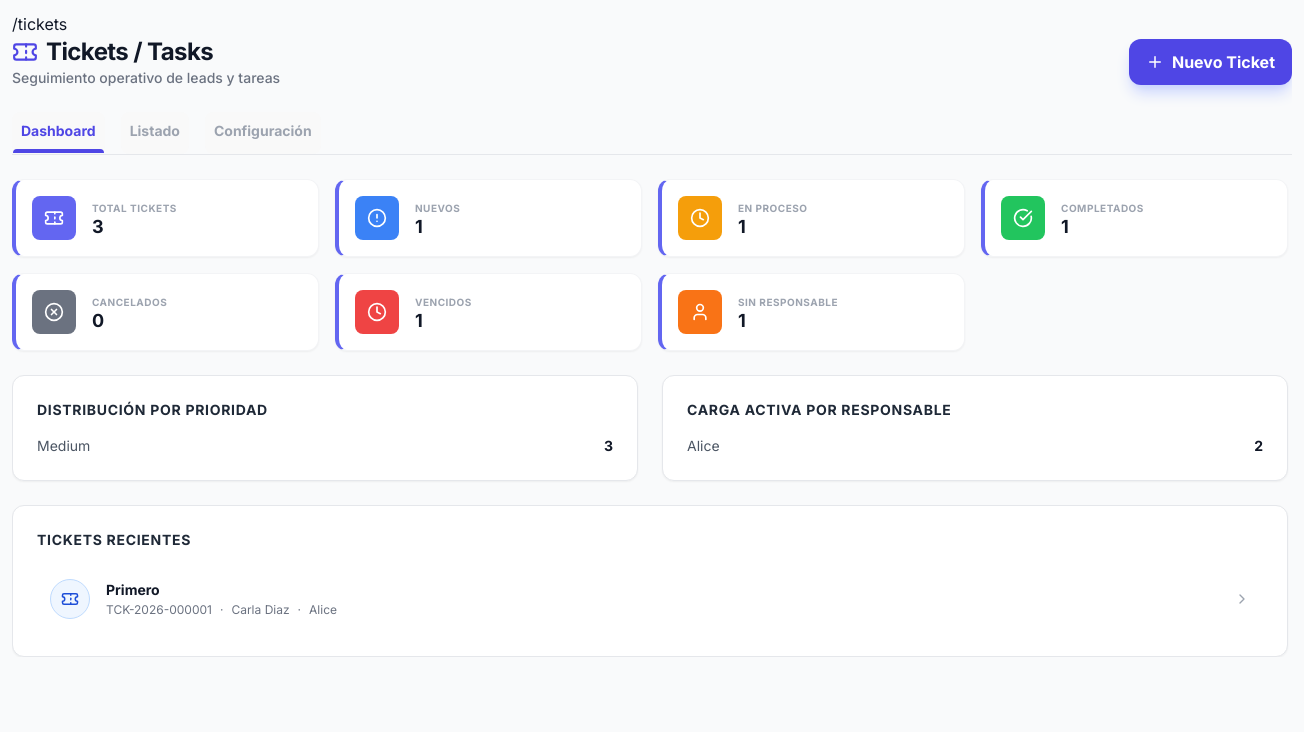
Tickets — detail and assignment › opens the lead ficha only after server re-authorization; a 403 never hides the ticket
Click the button "Listado".
click(155, 133)  # box [121,112,189,154]
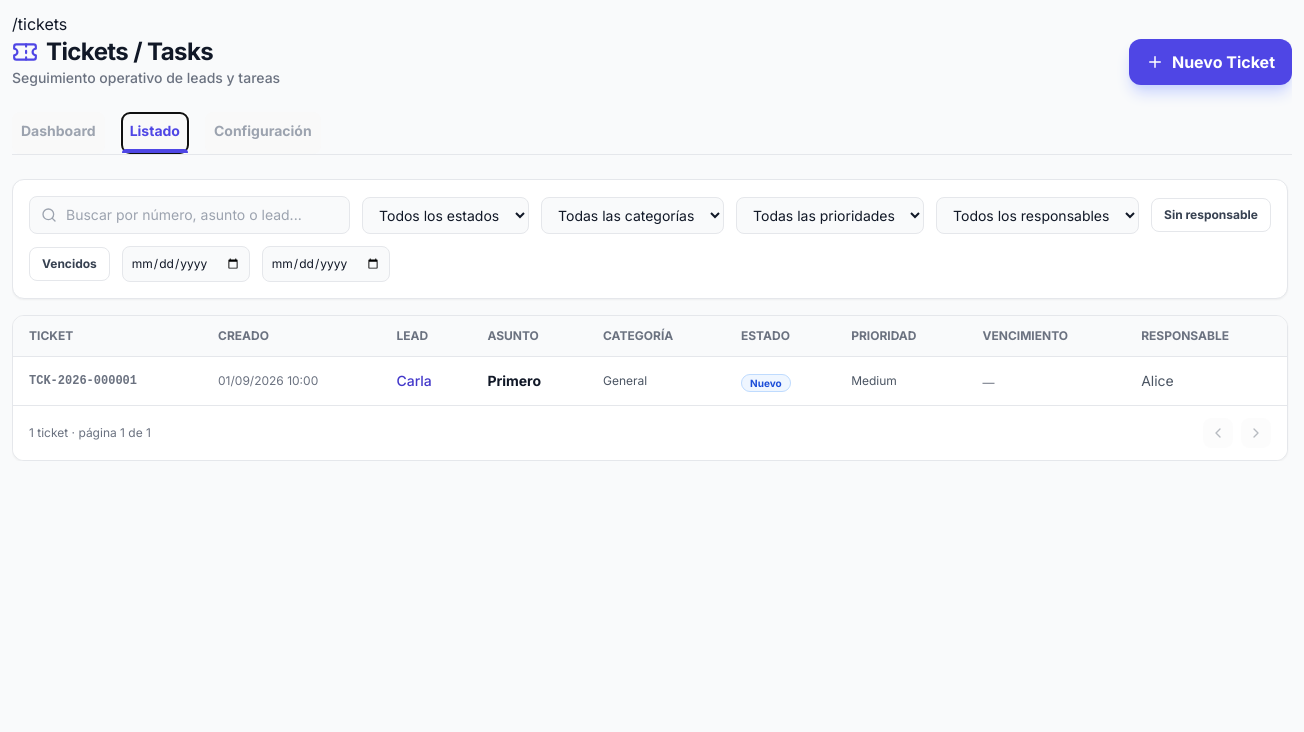
Click the text "Primero".
click(529, 381)  # box [471,357,587,405]
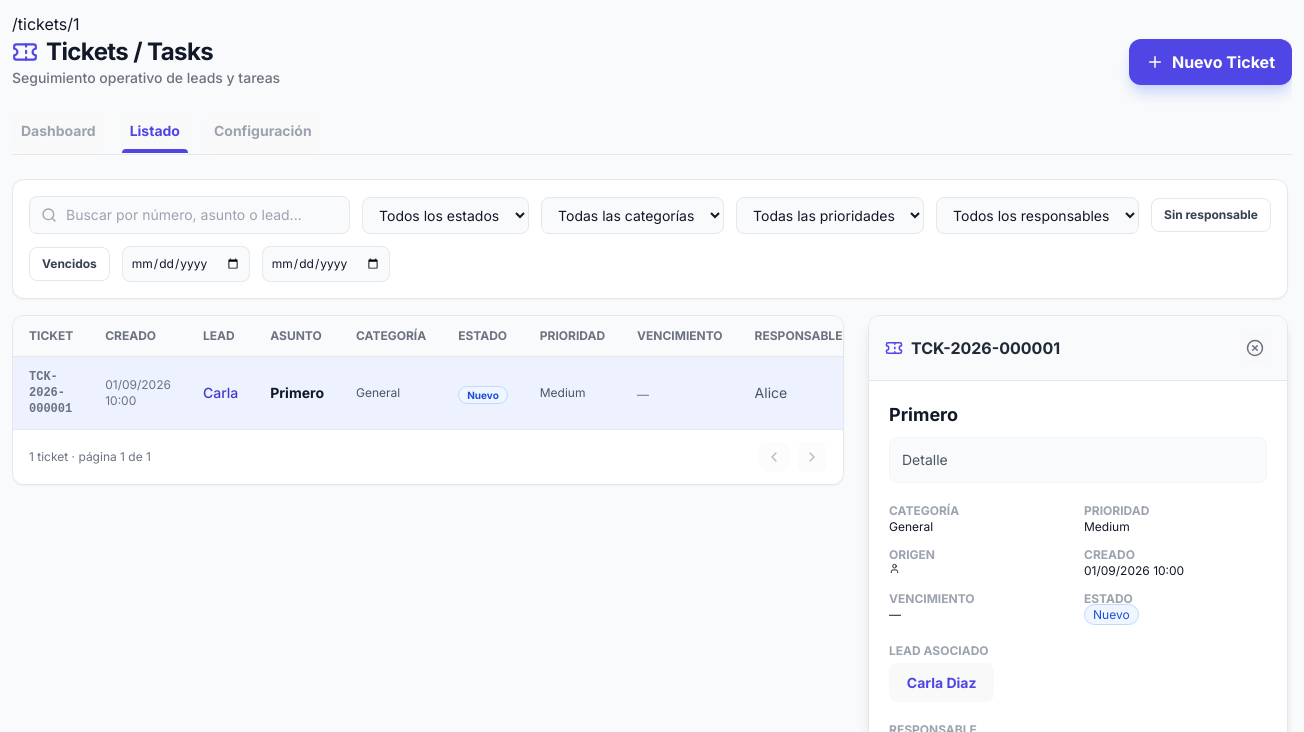
Expected: the text "Detalle" is shown, [889,437,1267,483]
Click the button "Carla Diaz".
click(942, 683)  # box [889,663,994,702]
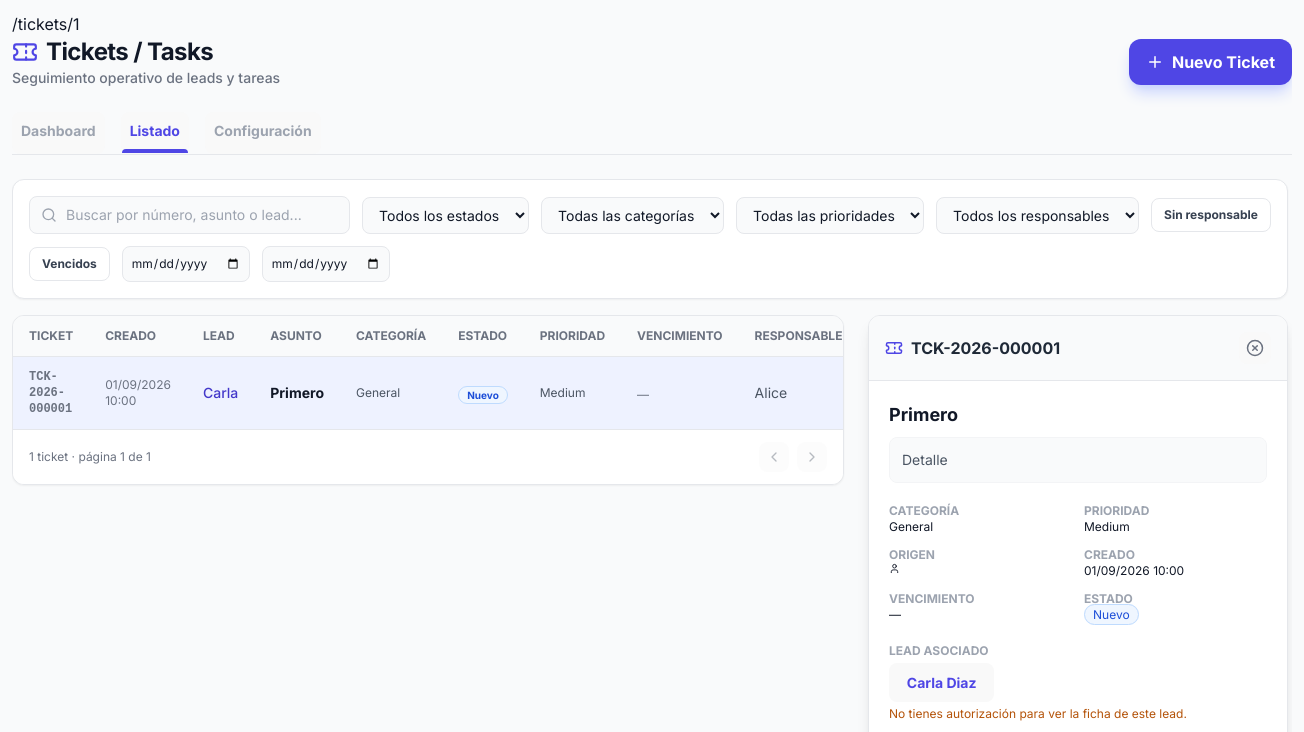
Expected: the text "Detalle" is shown, [889,437,1267,483]
Expected: the text "No tienes autorización para ver la ficha de este lead." is shown, [889,706,1187,721]
